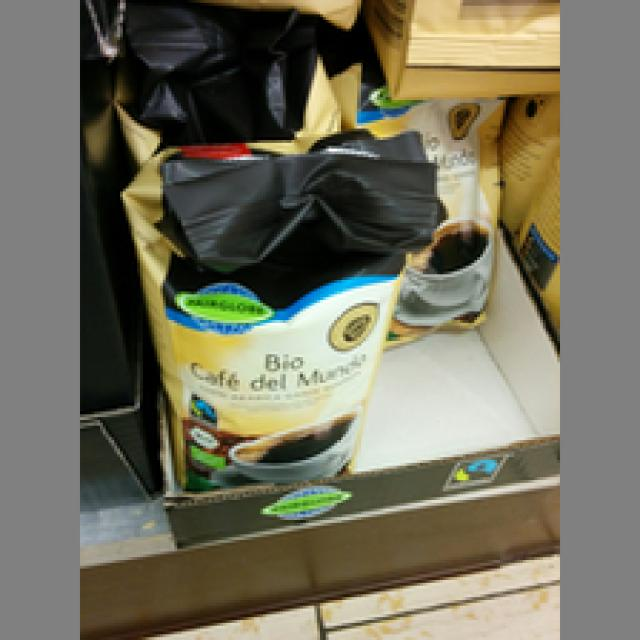groceries: (120, 123, 434, 488)
